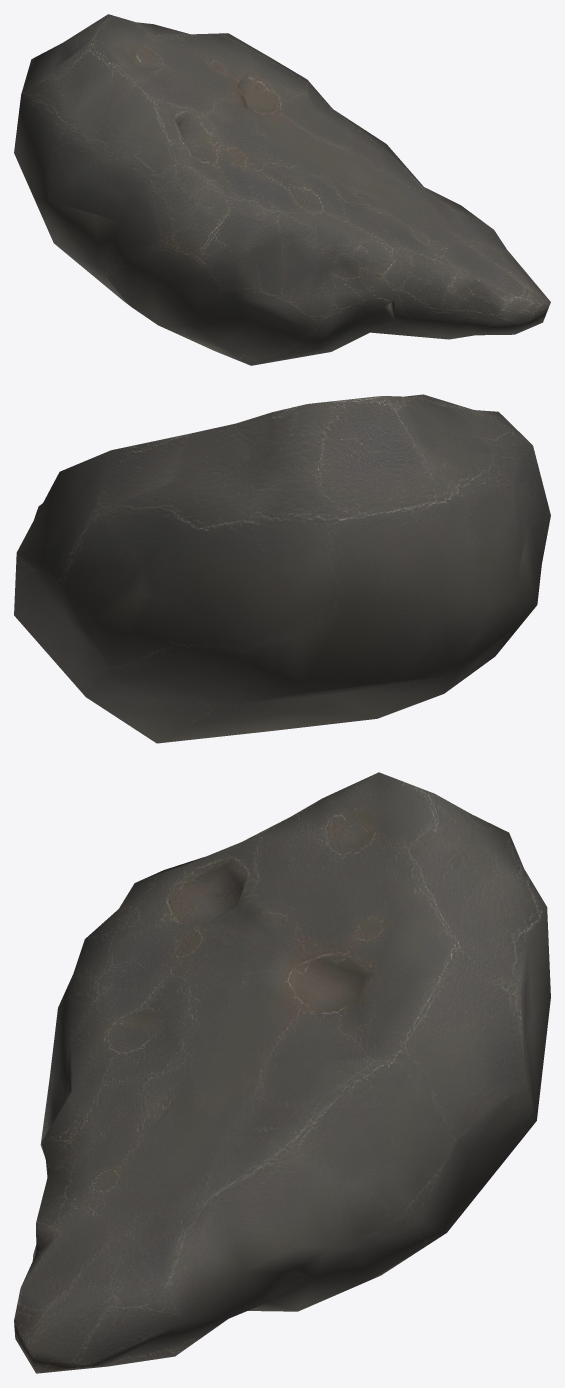
The model's file is SM_Asteroid_02.fbx.
3 views of the same model, one above another, from view 1: azimuth 30°, elevation 25°; view 2: azimuth 150°, elevation 25°; view 3: azimuth 270°, elevation 25° (orthographic). The views are drawn at different scales.
Visible parts, largest first — view 1: SM_Asteroid_02; view 2: SM_Asteroid_02; view 3: SM_Asteroid_02.
Boxes of the visible parts, x1,y1,x2,y2 form: SM_Asteroid_02: [14, 14, 550, 365]; SM_Asteroid_02: [14, 394, 550, 743]; SM_Asteroid_02: [14, 772, 550, 1373].
Size of the model in its own units: 80.52 by 97.69 by 66.14.
Materials: 1 (1 with a texture image).
